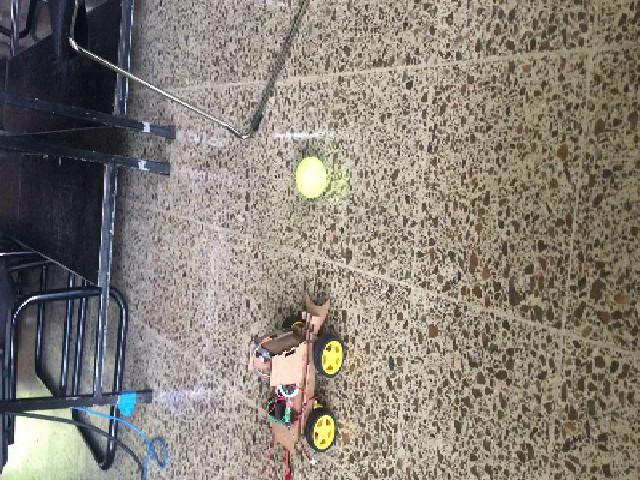Ball: (294, 157, 326, 198)
Robot: (248, 289, 344, 452)
